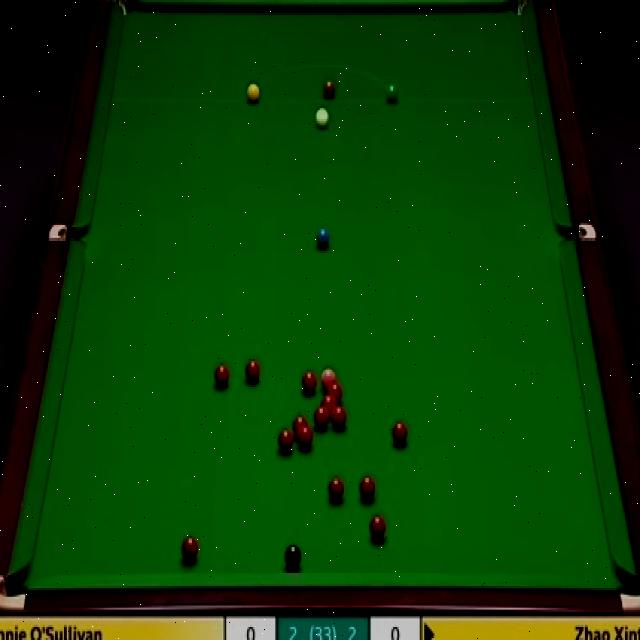black-ball: (282, 541, 302, 567)
blue-ball: (316, 228, 330, 246)
brown-ball: (324, 79, 336, 99)
green-ball: (384, 80, 400, 104)
pink-ball: (316, 369, 335, 385)
red-ball: (391, 417, 408, 446), (181, 537, 198, 566), (212, 362, 229, 388), (298, 423, 315, 448), (368, 513, 383, 541), (313, 406, 330, 430), (358, 474, 374, 498), (243, 360, 261, 381), (330, 479, 344, 505), (326, 382, 342, 402), (279, 431, 294, 452), (331, 402, 345, 424), (319, 394, 335, 413), (303, 370, 316, 393)
white-ball: (315, 107, 328, 128)
yellow-ball: (247, 82, 260, 104)
